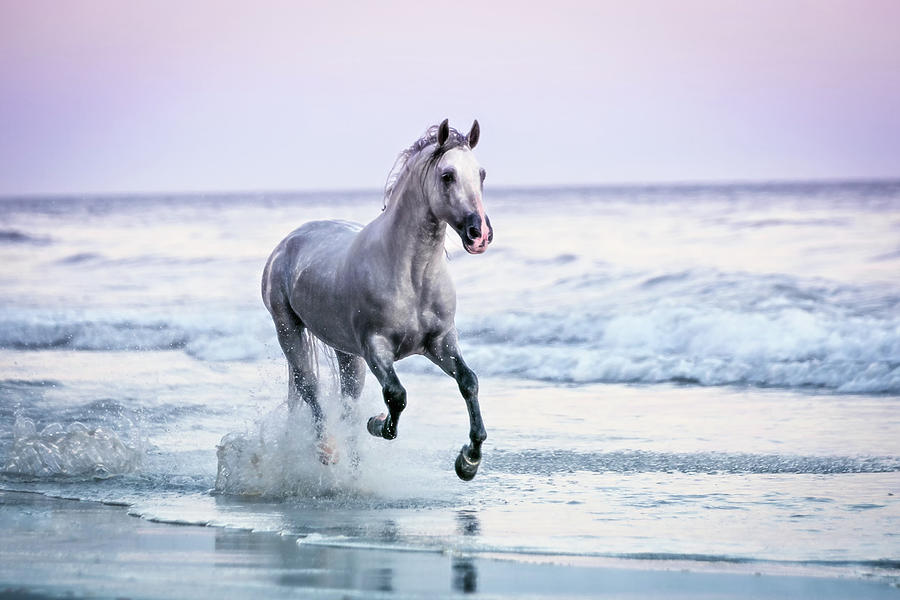Horse: (260, 119, 510, 484)
